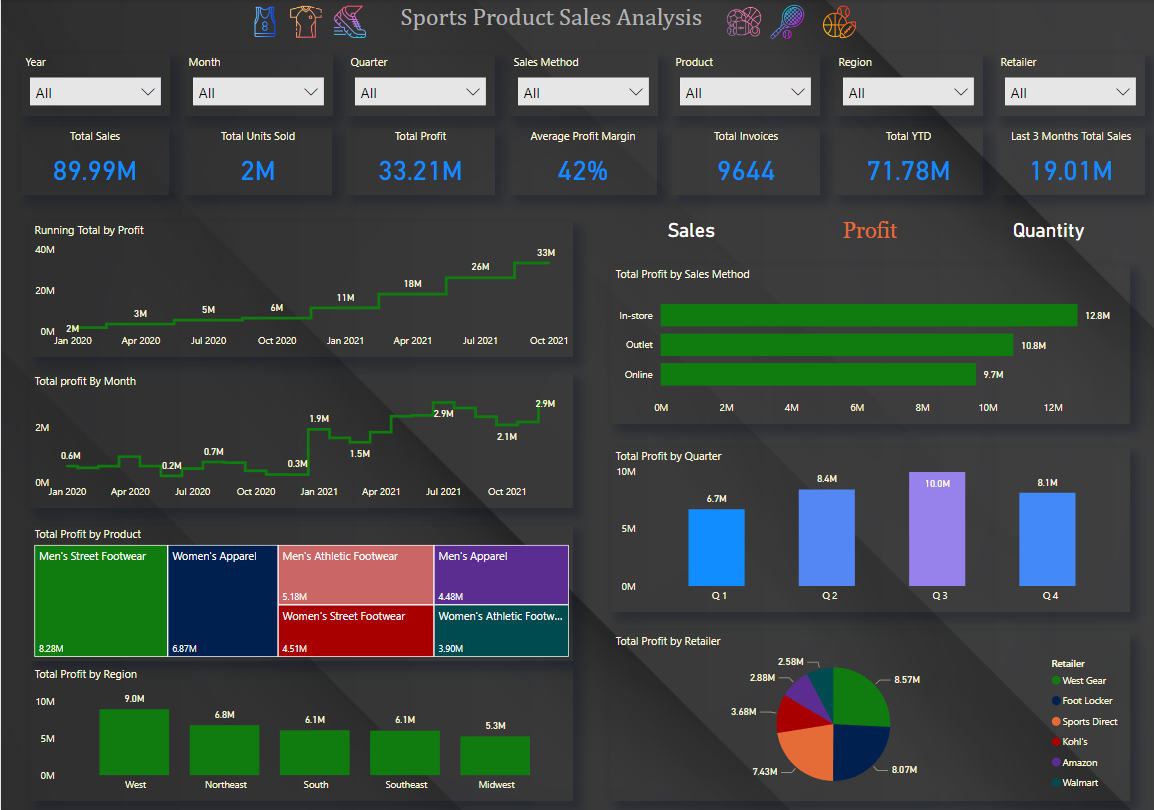

Layout of this report page (visuals, bound fields, positions):
{"tool":"powerbi","page":{"name":"Page 1","canvas":[1280,900],"ordinal":0},"visuals":[{"type":"textbox","box":[437.4,0,406.3,47.6],"z":0},{"type":"slicer","title":"Year","fields":{"Values":["calender.Year"]},"box":[22.2,59.9,165.1,68.7],"z":1000},{"type":"slicer","title":"Month","fields":{"Values":["calender.Month"]},"box":[202.8,59.9,165.1,68.7],"z":2000},{"type":"slicer","title":"Quarter","fields":{"Values":["calender.quarter"]},"box":[382.4,59.9,165.1,68.7],"z":3000},{"type":"slicer","title":"Sales Method","fields":{"Values":["Dim_Sales Method.Sales Method"]},"box":[563.1,59.9,165.1,68.7],"z":4000},{"type":"slicer","title":"Product","fields":{"Values":["Dim_Products.Product"]},"box":[742.6,59.9,165.1,68.7],"z":5000},{"type":"slicer","title":"Region","fields":{"Values":["Dim_Region.Region"]},"box":[923.3,59.9,165.1,68.7],"z":6000},{"type":"slicer","title":"Retailer","fields":{"Values":["Dim_Retailer.Retailer"]},"box":[1102.8,59.9,165.1,68.7],"z":7000},{"type":"card","title":"Total Sales","fields":{"Values":["Sum(Fact_SportProducts.Total Sales)"]},"box":[22.2,141.9,164,74.3],"z":8000},{"type":"card","title":"Total Units Sold","fields":{"Values":["Sum(Fact_SportProducts.Units Sold)"]},"box":[202.8,141.9,164,74.3],"z":9000},{"type":"card","title":"Total Profit","fields":{"Values":["Sum(Fact_SportProducts.Operating Proft)"]},"box":[382.4,141.9,165.1,74.3],"z":10000},{"type":"card","title":"Average Profit Margin","fields":{"Values":["Avg(Fact_SportProducts.Operating Margin)"]},"box":[563.1,141.9,164,74.3],"z":11000},{"type":"card","title":"Total Invoices ","fields":{"Values":["CountNonNull(Fact_SportProducts.Invoice Date)"]},"box":[743.7,141.9,164,74.3],"z":12000},{"type":"card","title":"Total YTD","fields":{"Values":["Measures (2).Total YTD"]},"box":[923.3,141.9,165.1,74.3],"z":13000},{"type":"card","title":"Last 3 Months Total Sales","fields":{"Values":["Measures (2).Last 3 months Sales"]},"box":[1103.9,141.9,164,74.3],"z":14000},{"type":"lineChart","title":"Running Total by Units sold ","fields":{"Category":["calender.Date.Variation.Date Hierarchy.Year","calender.Date.Variation.Date Hierarchy.Quarter","calender.Date.Variation.Date Hierarchy.Month","calender.Date.Variation.Date Hierarchy.Day"],"Y":["Measures (2).Running total units"]},"box":[42.2,256.1,601.8,149.6],"z":32000},{"type":"lineChart","title":"Total Units sold By Month","fields":{"Category":["calender.Date.Variation.Date Hierarchy.Year","calender.Date.Variation.Date Hierarchy.Month"],"Y":["Measures (2).Total Units Sold"]},"box":[42.2,423.4,601.8,149.6],"z":33000},{"type":"treemap","fields":{"Group":["Dim_Products.Product"],"Values":["Measures (2).Total Units Sold"]},"box":[42.2,593,601.8,149.6],"z":34000},{"type":"clusteredColumnChart","fields":{"Category":["Dim_Region.Region"],"Y":["Measures (2).Total Units Sold"]},"box":[42.2,748.2,601.8,149.6],"z":35000},{"type":"columnChart","title":"Total Units sold by Quarter","fields":{"Category":["calender.quarter"],"Y":["Measures (2).Total Units Sold"]},"box":[686.1,506.6,575.2,181.8],"z":36000},{"type":"pieChart","fields":{"Category":["Dim_Retailer.Retailer"],"Y":["Measures (2).Total Units Sold"]},"box":[686.1,711.6,575.2,186.2],"z":37000},{"type":"clusteredBarChart","title":"Total Units sold by Sales Method ","fields":{"Category":["Dim_Sales Method.Sales Method"],"Y":["Measures (2).Total Units Sold"]},"box":[686.1,304.9,575.2,175.1],"z":38000},{"type":"image","box":[240.5,0,103.1,47.7],"z":39000},{"type":"image","box":[286,0,103.1,47.7],"z":40000},{"type":"image","box":[345.8,0,80.9,47.7],"z":41000},{"type":"image","box":[782.5,0,82,47.7],"z":42000},{"type":"image","box":[823.5,0,96.4,47.7],"z":43000},{"type":"image","box":[884.5,0,89.8,47.7],"z":44000},{"type":"bookmarkNavigator","box":[676.1,230.5,575.2,49.9],"z":45000}]}

Visuals, with their boxes in screenshot pixels (x1, y1, x2, y2), scaled from the page's 1280x900 canvas onto the 1154x810 screenshot:
textbox: box=[394, 0, 761, 43]
"Year" slicer: box=[20, 54, 169, 116]
"Month" slicer: box=[183, 54, 332, 116]
"Quarter" slicer: box=[345, 54, 494, 116]
"Sales Method" slicer: box=[508, 54, 657, 116]
"Product" slicer: box=[670, 54, 818, 116]
"Region" slicer: box=[832, 54, 981, 116]
"Retailer" slicer: box=[994, 54, 1143, 116]
"Total Sales" card: box=[20, 128, 168, 195]
"Total Units Sold" card: box=[183, 128, 331, 195]
"Total Profit" card: box=[345, 128, 494, 195]
"Average Profit Margin" card: box=[508, 128, 656, 195]
"Total Invoices " card: box=[670, 128, 818, 195]
"Total YTD" card: box=[832, 128, 981, 195]
"Last 3 Months Total Sales" card: box=[995, 128, 1143, 195]
"Running Total by Units sold " lineChart: box=[38, 230, 581, 365]
"Total Units sold By Month" lineChart: box=[38, 381, 581, 516]
treemap - Dim_Products.Product x Measures (2).Total Units Sold: box=[38, 534, 581, 668]
clusteredColumnChart - Dim_Region.Region x Measures (2).Total Units Sold: box=[38, 673, 581, 808]
"Total Units sold by Quarter" columnChart: box=[619, 456, 1137, 620]
pieChart - Dim_Retailer.Retailer x Measures (2).Total Units Sold: box=[619, 640, 1137, 808]
"Total Units sold by Sales Method " clusteredBarChart: box=[619, 274, 1137, 432]
image: box=[217, 0, 310, 43]
image: box=[258, 0, 351, 43]
image: box=[312, 0, 385, 43]
image: box=[705, 0, 779, 43]
image: box=[742, 0, 829, 43]
image: box=[797, 0, 878, 43]
bookmarkNavigator: box=[610, 207, 1128, 252]
